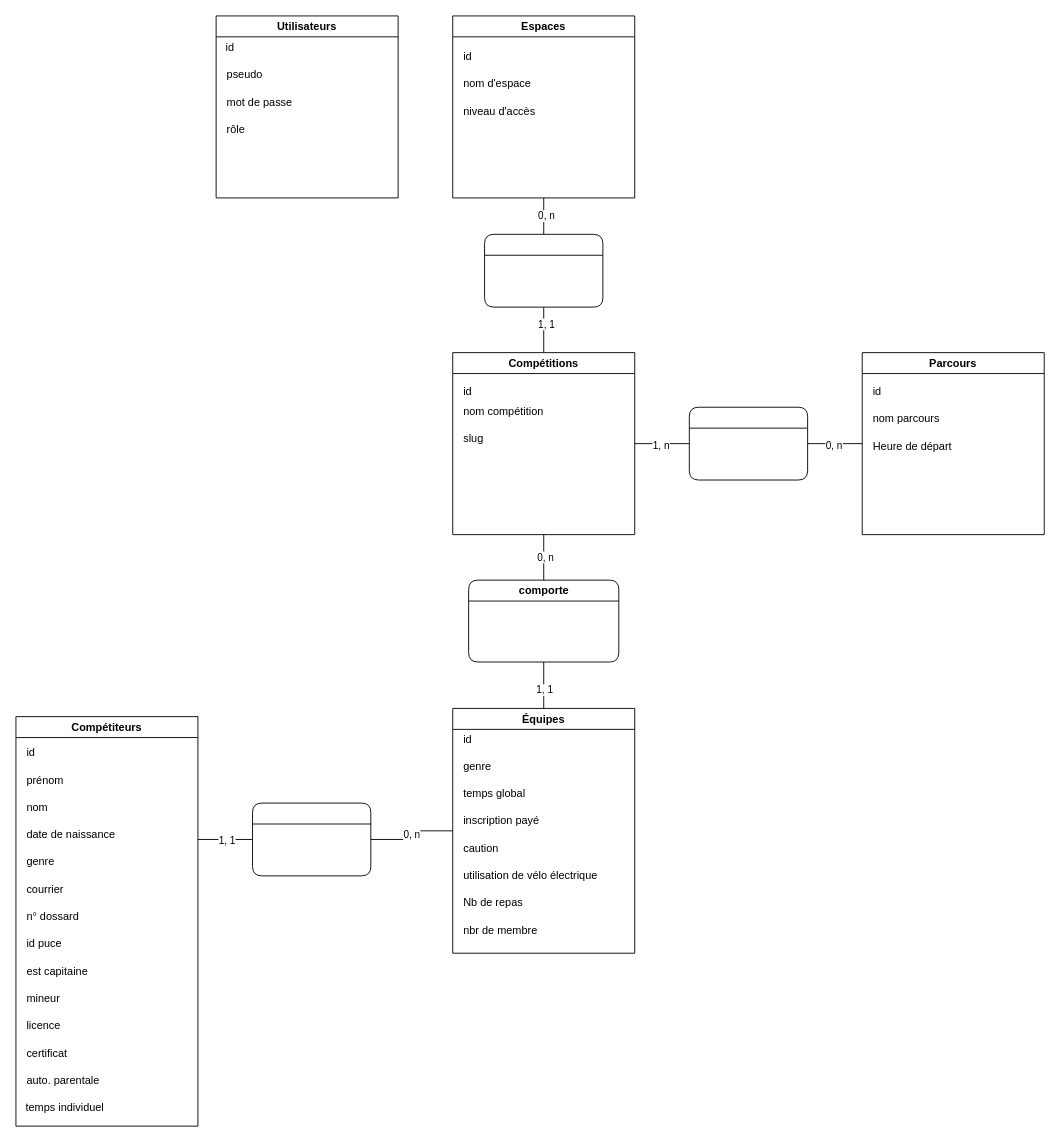
This 1060x1142 diagram has some shape labels left out. The centre of each missing label's shape, as x and y in pixels:
composé de: (311,839)
contient: (543,270)
dispose de: (748,443)
